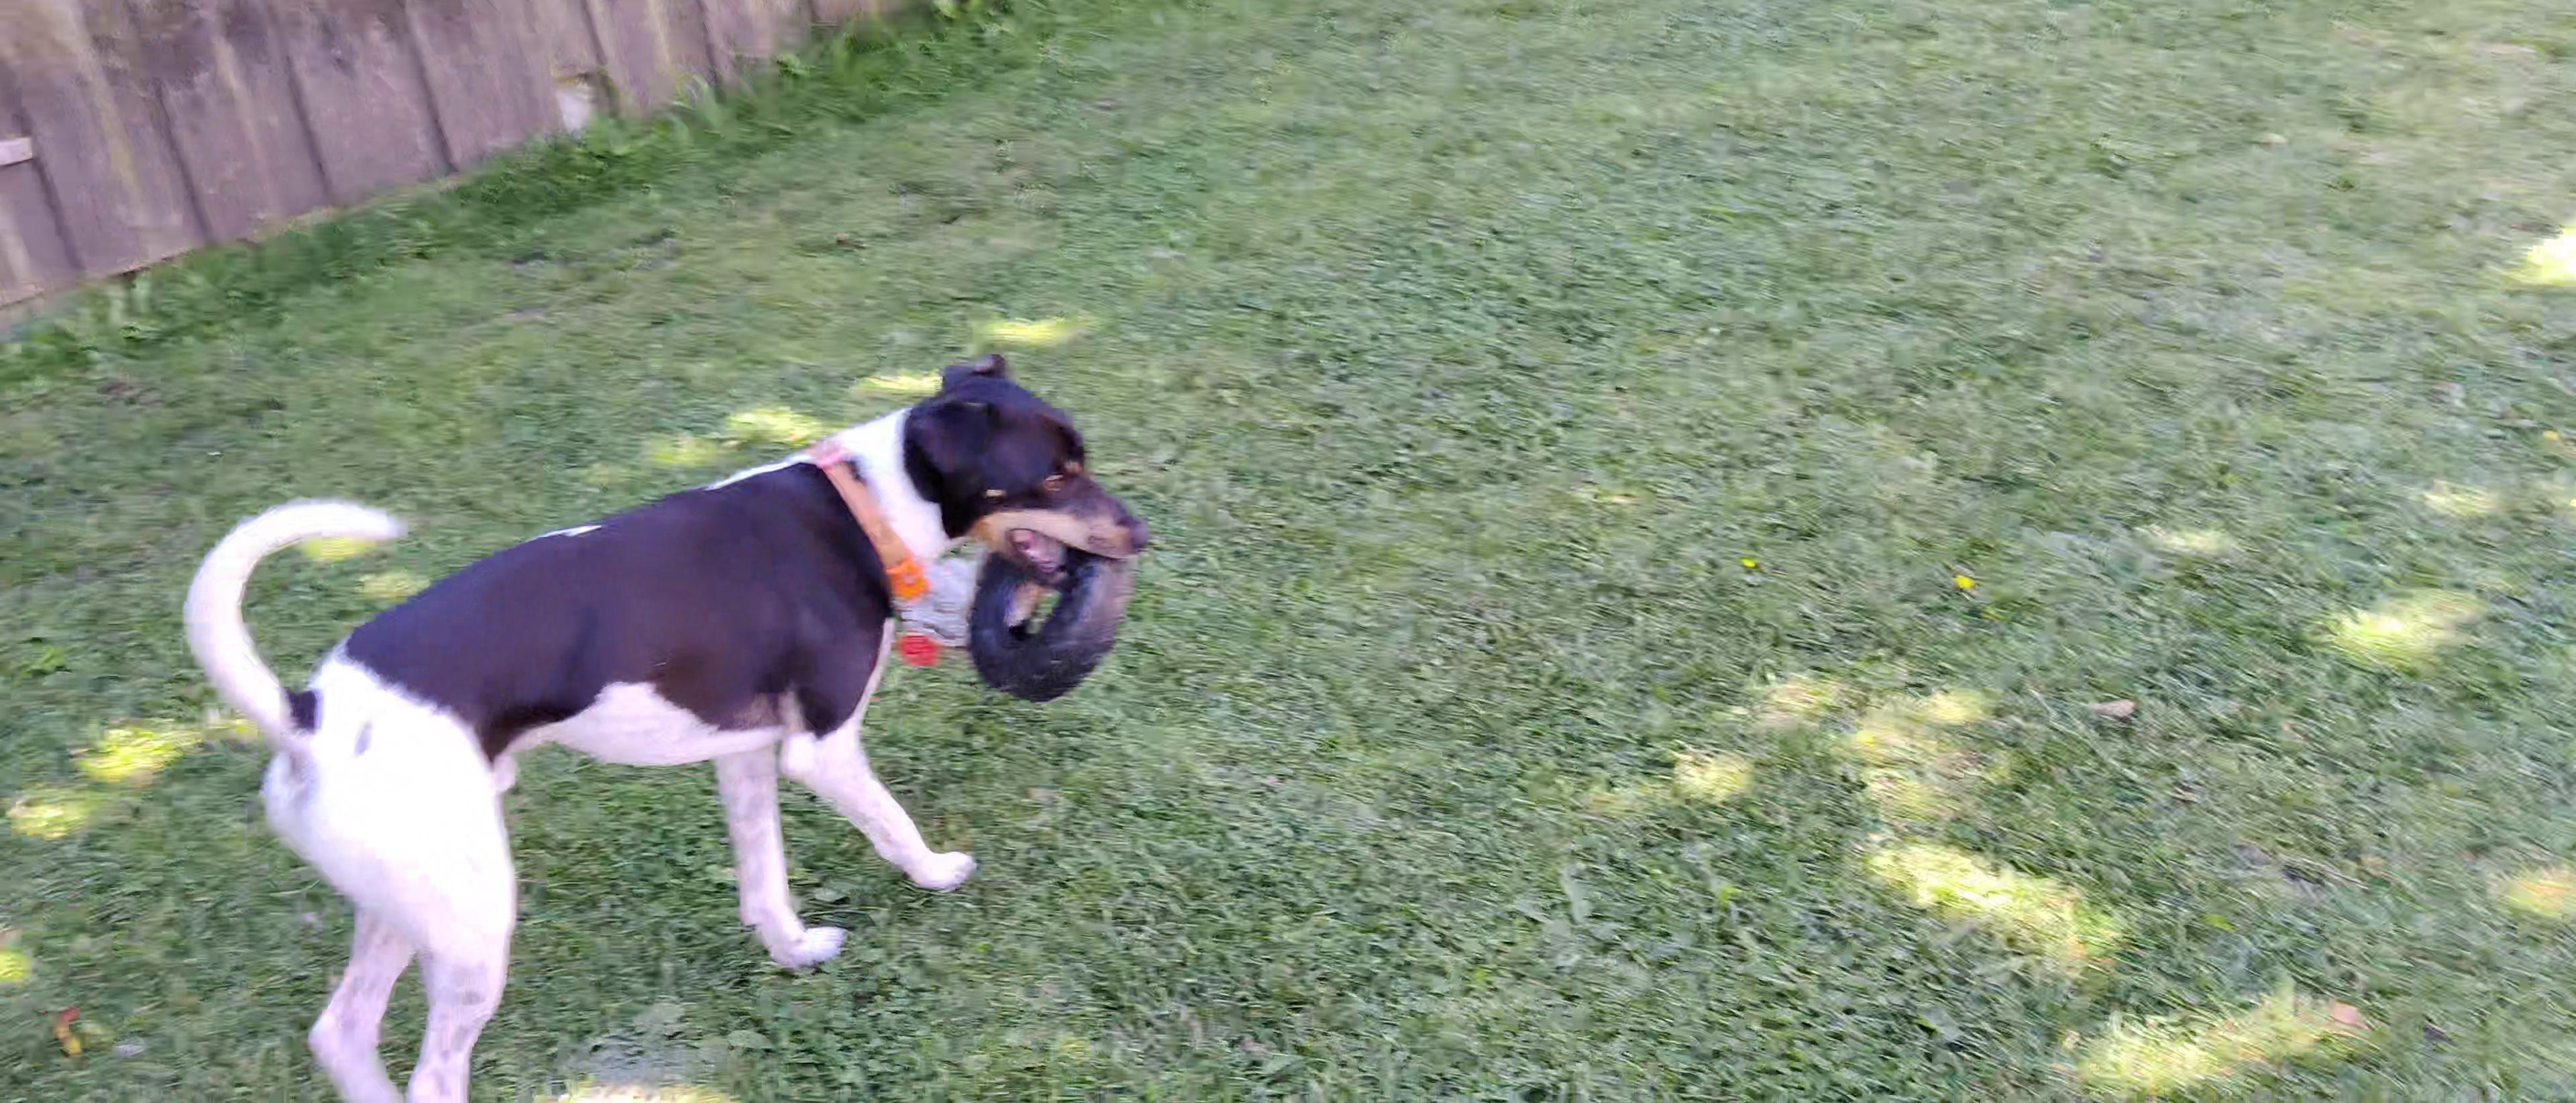Dog: (166, 347, 1150, 1103)
